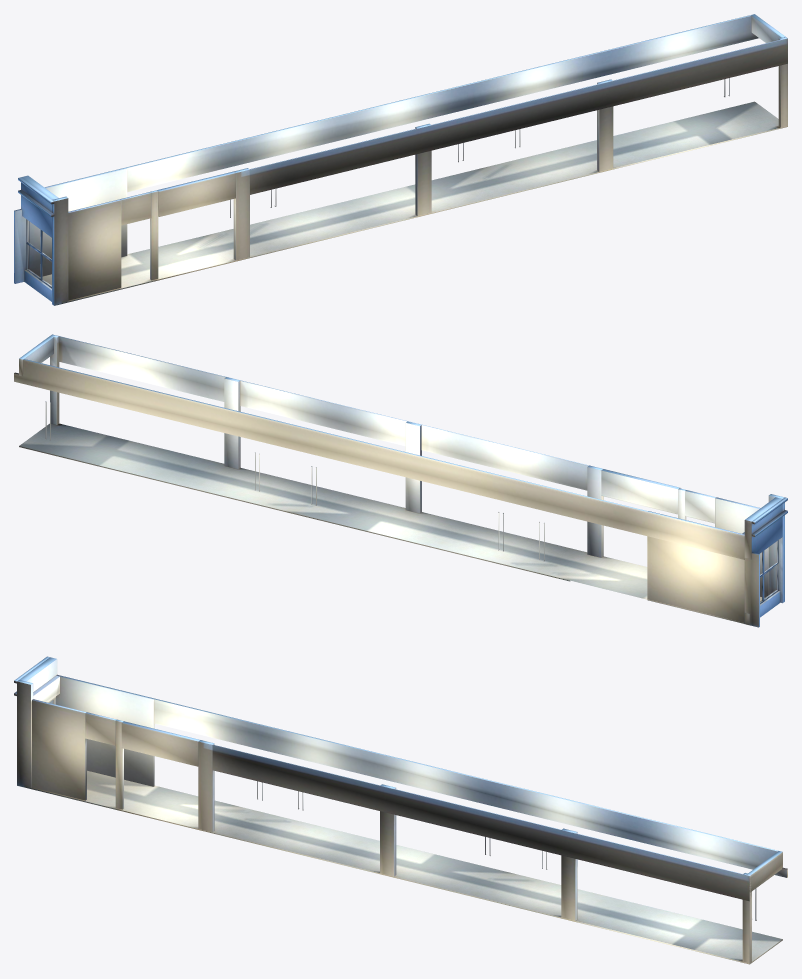
3 views of the same model, one above another, from view 1: azimuth 30°, elevation 25°; view 2: azimuth 150°, elevation 25°; view 3: azimuth 330°, elevation 25° (orthographic).
Visible parts, largest first — view 1: hc_2floor_room033 (1)_0; view 2: hc_2floor_room033 (1)_0; view 3: hc_2floor_room033 (1)_0.
Part boxes in pixels (bbox=[...]): hc_2floor_room033 (1)_0: bbox=[14, 14, 787, 305]; hc_2floor_room033 (1)_0: bbox=[14, 334, 787, 627]; hc_2floor_room033 (1)_0: bbox=[14, 656, 787, 964].
Size of the model in its own units: 3.69 by 0.4943 by 0.2886.
1 material, 1 textured.
